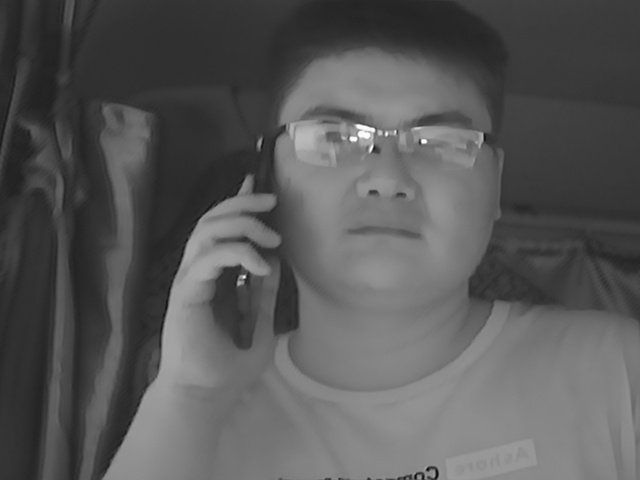hand: (153, 179, 282, 388)
